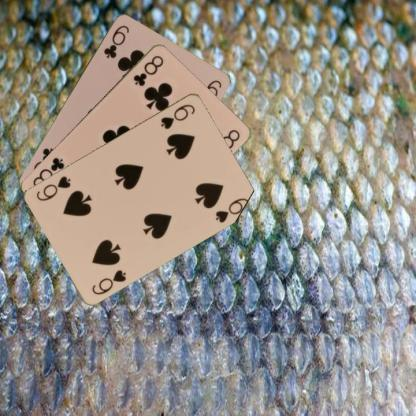6c: (101, 22, 131, 60)
6s: (89, 266, 128, 296), (158, 101, 196, 131)
8c: (130, 52, 165, 87)
